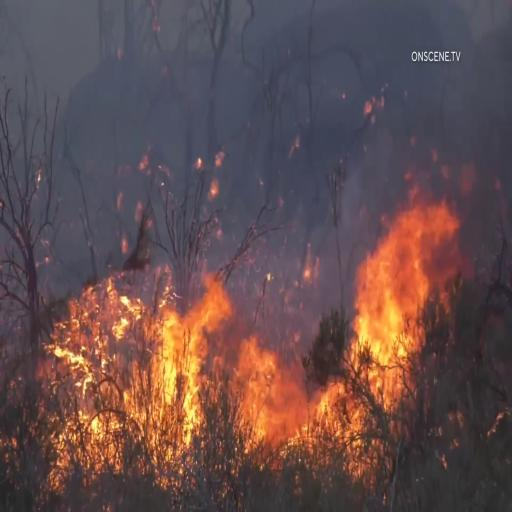fire: (33, 274, 330, 493), (330, 190, 472, 449)
